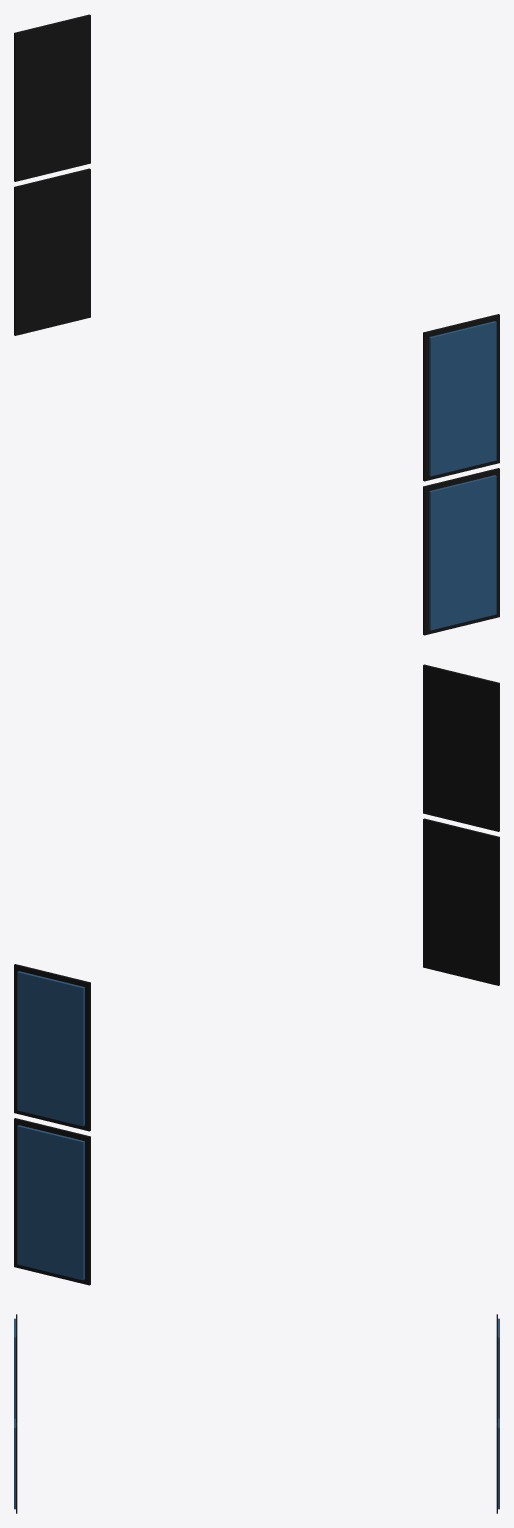
The model's file is pax100_seal.obj.
3 views of the same model, one above another, from view 1: azimuth 30°, elevation 25°; view 2: azimuth 150°, elevation 25°; view 3: azimuth 270°, elevation 25° (orthographic). The views are drawn at different scales.
Visible parts, largest first — view 1: pax100_seal; view 2: pax100_seal; view 3: pax100_seal.
Part boxes in pixels (x1,y1,x2,y2): pax100_seal: [14, 14, 499, 635]; pax100_seal: [14, 664, 499, 1285]; pax100_seal: [14, 1314, 499, 1513].
Size of the model in its own units: 1.1 by 4.2 by 10.41.
